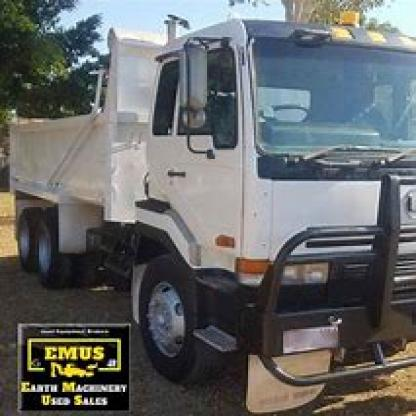dump_truck: (8, 9, 414, 386)
